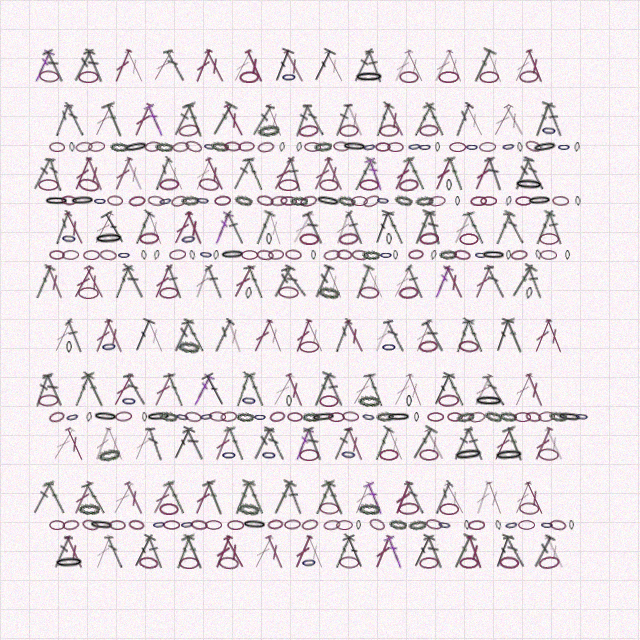chain: (453, 447, 484, 462), (494, 448, 524, 462), (514, 178, 544, 191), (94, 232, 124, 245), (54, 556, 84, 569), (97, 447, 121, 463), (77, 177, 100, 193), (123, 140, 149, 154), (532, 140, 558, 154), (315, 194, 341, 208), (354, 71, 384, 83), (474, 395, 504, 407), (257, 123, 280, 138), (317, 285, 340, 300), (178, 123, 200, 138), (198, 177, 220, 192), (538, 555, 560, 570), (177, 340, 200, 354), (237, 502, 260, 516), (362, 193, 381, 209), (311, 411, 336, 423), (557, 411, 582, 423), (89, 519, 114, 531), (298, 124, 319, 138), (398, 178, 419, 192), (338, 232, 359, 246), (138, 556, 159, 570), (218, 556, 239, 570), (184, 139, 203, 154), (524, 139, 543, 154), (342, 141, 367, 152), (70, 195, 95, 206), (527, 195, 552, 206), (220, 249, 245, 260), (93, 411, 118, 422), (146, 411, 171, 422), (242, 519, 267, 530), (278, 286, 299, 299), (398, 286, 419, 299), (418, 340, 439, 353), (458, 340, 479, 353), (38, 394, 59, 407), (438, 394, 459, 407), (538, 448, 559, 461), (398, 502, 419, 515), (368, 517, 386, 532), (299, 194, 318, 208), (456, 410, 475, 424), (81, 518, 100, 532), (358, 395, 380, 407), (78, 503, 100, 515), (358, 503, 380, 515), (39, 70, 59, 83), (519, 70, 539, 83), (339, 124, 359, 137), (379, 124, 399, 137), (419, 124, 439, 137), (159, 178, 179, 191), (139, 232, 159, 245), (419, 232, 439, 245), (359, 286, 379, 299), (319, 502, 339, 515), (519, 502, 539, 515), (339, 556, 359, 569), (499, 556, 519, 569), (78, 71, 99, 83), (438, 71, 459, 83), (38, 179, 59, 191), (278, 179, 299, 191), (170, 194, 188, 208), (78, 287, 99, 299), (48, 410, 66, 424), (44, 196, 69, 206), (481, 250, 506, 260), (386, 412, 411, 422), (234, 194, 253, 207), (394, 194, 413, 207), (484, 410, 503, 423), (239, 71, 259, 83), (399, 71, 419, 83), (479, 71, 499, 83), (319, 179, 339, 191), (359, 179, 379, 191), (299, 233, 319, 245), (459, 233, 479, 245), (539, 233, 559, 245), (159, 287, 179, 299), (299, 341, 319, 353), (319, 395, 339, 407), (299, 449, 319, 461), (379, 449, 399, 461), (419, 449, 439, 461), (159, 503, 179, 515), (439, 503, 459, 515), (179, 557, 199, 569), (419, 557, 439, 569), (459, 557, 479, 569), (180, 232, 197, 246), (256, 194, 274, 207), (301, 518, 319, 531), (425, 518, 443, 531), (337, 195, 356, 207), (415, 195, 434, 207), (408, 519, 427, 531), (269, 410, 286, 423), (340, 448, 357, 461), (75, 141, 93, 153), (172, 141, 190, 153), (257, 141, 275, 153), (128, 195, 146, 207), (147, 195, 165, 207), (270, 195, 288, 207), (428, 195, 446, 207), (99, 249, 117, 261), (256, 249, 274, 261), (323, 249, 341, 261), (351, 249, 369, 261), (453, 249, 471, 261), (510, 249, 528, 261), (184, 411, 202, 423), (468, 411, 486, 423), (62, 519, 80, 531), (190, 519, 208, 531), (323, 519, 341, 531), (549, 519, 567, 531), (159, 411, 178, 422), (541, 124, 557, 137), (61, 232, 77, 245), (101, 340, 117, 353), (241, 394, 257, 407), (301, 556, 317, 569), (525, 411, 542, 423), (128, 519, 145, 531), (144, 141, 162, 152), (211, 141, 229, 152), (314, 141, 332, 152), (181, 195, 199, 206), (439, 249, 457, 260), (220, 411, 238, 422), (376, 411, 394, 422), (499, 411, 517, 422), (549, 411, 567, 422), (389, 519, 407, 530), (281, 71, 297, 83), (381, 341, 397, 353), (121, 395, 137, 407), (221, 449, 237, 461), (261, 449, 277, 461), (88, 141, 105, 152), (224, 141, 241, 152), (238, 141, 255, 152), (333, 141, 350, 152), (214, 195, 231, 206), (169, 249, 186, 260), (285, 249, 302, 260), (336, 249, 353, 260), (115, 411, 132, 422), (209, 411, 226, 422), (342, 411, 359, 422), (538, 411, 555, 422), (267, 519, 284, 530), (284, 519, 301, 530), (110, 142, 128, 152), (155, 142, 173, 152), (362, 141, 377, 153), (158, 195, 173, 207), (290, 196, 308, 206), (362, 250, 380, 260), (65, 411, 80, 423), (175, 411, 190, 423), (236, 412, 254, 422), (302, 412, 320, 422), (361, 411, 376, 423), (437, 519, 452, 531), (504, 519, 519, 531), (61, 195, 77, 206), (107, 195, 123, 206), (268, 249, 284, 260), (408, 249, 424, 260), (304, 142, 321, 152), (387, 142, 404, 152), (449, 142, 466, 152), (479, 142, 496, 152), (280, 196, 297, 206), (351, 196, 368, 206), (470, 196, 487, 206), (480, 196, 497, 206), (515, 196, 532, 206), (552, 196, 569, 206), (62, 250, 79, 260), (83, 250, 100, 260), (241, 250, 258, 260), (540, 250, 557, 260), (328, 412, 345, 422), (427, 412, 444, 422), (514, 412, 531, 422), (109, 520, 126, 530), (163, 520, 180, 530), (205, 520, 222, 530), (227, 520, 244, 530), (336, 520, 353, 530), (468, 520, 485, 530), (518, 520, 535, 530), (407, 141, 422, 152), (501, 141, 516, 152), (199, 411, 214, 422), (49, 142, 65, 152), (375, 142, 391, 152), (49, 250, 65, 260), (287, 412, 303, 422), (447, 412, 463, 422), (49, 520, 65, 530), (203, 141, 217, 152), (196, 195, 210, 206), (376, 195, 390, 206), (199, 249, 213, 260), (575, 411, 589, 422), (152, 519, 166, 530), (180, 519, 194, 530), (418, 142, 432, 152), (465, 142, 479, 152), (557, 142, 571, 152), (93, 196, 107, 206), (117, 250, 131, 260), (379, 250, 393, 260), (474, 250, 488, 260), (253, 412, 267, 422), (540, 520, 554, 530), (525, 287, 533, 299), (245, 287, 252, 299), (535, 249, 542, 260), (446, 179, 452, 191), (266, 233, 272, 245), (386, 233, 392, 245), (66, 341, 72, 353), (286, 395, 292, 407), (406, 395, 412, 407), (505, 196, 512, 206), (153, 250, 160, 260), (189, 250, 196, 260), (430, 250, 437, 260), (495, 520, 502, 530), (69, 142, 75, 152), (279, 142, 285, 152), (296, 142, 302, 152), (517, 142, 523, 152), (574, 142, 580, 152), (575, 196, 581, 206), (141, 250, 147, 260), (213, 250, 219, 260), (86, 412, 92, 422), (464, 520, 470, 530), (435, 142, 440, 152), (455, 196, 460, 206), (311, 250, 316, 260), (393, 250, 398, 260), (506, 250, 511, 260), (565, 250, 570, 260), (142, 412, 147, 422), (414, 412, 419, 422), (356, 520, 361, 530), (569, 520, 574, 530)
double: (507, 263, 538, 300), (208, 101, 238, 138), (408, 425, 438, 462), (100, 209, 129, 246), (469, 47, 497, 85), (81, 371, 109, 409), (269, 479, 297, 517), (321, 479, 349, 517), (449, 533, 477, 571), (309, 47, 337, 84), (201, 371, 229, 408), (129, 533, 157, 570), (101, 101, 128, 139), (501, 317, 528, 355), (309, 371, 336, 409), (181, 533, 208, 571), (409, 102, 437, 138), (349, 156, 377, 192), (49, 426, 77, 462), (81, 480, 109, 516), (181, 317, 208, 354), (429, 371, 456, 408), (169, 425, 196, 462), (409, 533, 436, 570), (182, 101, 208, 139), (530, 101, 556, 139), (410, 209, 436, 247), (502, 425, 528, 463), (202, 479, 228, 517), (230, 479, 256, 517), (281, 48, 308, 84), (489, 102, 516, 138), (501, 102, 528, 138), (289, 210, 316, 246), (421, 318, 448, 354), (269, 372, 296, 408), (109, 480, 136, 516), (149, 480, 176, 516), (221, 534, 248, 570), (402, 155, 428, 192), (130, 209, 156, 246), (250, 209, 276, 246), (462, 209, 488, 246), (490, 209, 516, 246), (530, 209, 556, 246), (30, 263, 56, 300), (130, 317, 156, 354), (442, 371, 468, 408), (42, 479, 68, 516), (162, 479, 188, 516), (310, 479, 336, 516), (330, 533, 356, 570), (342, 533, 368, 570), (349, 372, 376, 407), (42, 48, 68, 84), (70, 48, 96, 84), (202, 48, 228, 84), (390, 48, 416, 84), (430, 48, 456, 84), (90, 102, 116, 138), (382, 102, 408, 138), (270, 156, 296, 192), (90, 210, 116, 246), (70, 264, 96, 300), (122, 264, 148, 300), (230, 264, 256, 300), (270, 264, 296, 300), (342, 318, 368, 354), (110, 372, 136, 408), (150, 372, 176, 408), (390, 372, 416, 408), (470, 372, 496, 408), (182, 426, 208, 462), (422, 426, 448, 462), (442, 480, 468, 516), (250, 534, 276, 570), (530, 534, 556, 570), (542, 534, 568, 570), (270, 47, 295, 84), (422, 101, 447, 138), (242, 155, 267, 192), (370, 209, 395, 246), (382, 209, 407, 246), (110, 263, 135, 300), (350, 263, 375, 300), (462, 317, 487, 354), (70, 371, 95, 408), (370, 425, 395, 462), (242, 479, 267, 516), (281, 265, 308, 299), (150, 48, 176, 83), (122, 48, 147, 84), (230, 48, 255, 84), (242, 48, 267, 84), (322, 48, 347, 84), (402, 48, 427, 84), (130, 102, 155, 138), (222, 102, 247, 138), (462, 102, 487, 138), (122, 156, 147, 192), (310, 156, 335, 192), (322, 156, 347, 192), (62, 210, 87, 246), (170, 210, 195, 246), (302, 210, 327, 246), (450, 210, 475, 246), (82, 264, 107, 300), (390, 264, 415, 300), (442, 264, 467, 300), (102, 318, 127, 354), (170, 318, 195, 354), (250, 318, 275, 354), (42, 372, 67, 408), (190, 372, 215, 408), (510, 372, 535, 408), (250, 426, 275, 462), (542, 426, 567, 462), (70, 480, 95, 516), (122, 480, 147, 516), (62, 534, 87, 570), (371, 101, 395, 138), (243, 263, 267, 300), (451, 317, 475, 354), (491, 317, 515, 354), (163, 371, 187, 408), (231, 371, 255, 408), (243, 371, 267, 408), (363, 371, 387, 408), (223, 425, 247, 462), (171, 533, 195, 570), (491, 533, 515, 570), (210, 318, 235, 353), (31, 48, 55, 84), (83, 48, 107, 84), (191, 48, 215, 84), (511, 48, 535, 84), (523, 48, 547, 84), (143, 102, 167, 138), (343, 102, 367, 138), (83, 156, 107, 192), (111, 156, 135, 192), (163, 156, 187, 192), (191, 156, 215, 192), (203, 156, 227, 192), (391, 156, 415, 192), (431, 156, 455, 192), (471, 156, 495, 192), (511, 156, 535, 192), (43, 264, 67, 300), (311, 264, 335, 300), (363, 264, 387, 300), (471, 264, 495, 300), (51, 318, 75, 354), (91, 318, 115, 354), (143, 318, 167, 354), (303, 318, 327, 354), (371, 318, 395, 354), (411, 318, 435, 354), (283, 372, 307, 408), (523, 372, 547, 408), (63, 426, 87, 462), (103, 426, 127, 462), (211, 426, 235, 462), (343, 426, 367, 462), (383, 426, 407, 462), (491, 426, 515, 462), (531, 426, 555, 462), (191, 480, 215, 516), (391, 480, 415, 516), (523, 480, 547, 516), (91, 534, 115, 570), (211, 534, 235, 570), (263, 534, 287, 570), (291, 534, 315, 570), (303, 534, 327, 570), (371, 534, 395, 570), (423, 534, 447, 570), (443, 155, 466, 192), (250, 103, 275, 137), (482, 373, 507, 407), (223, 210, 247, 245), (123, 372, 147, 407), (111, 48, 134, 84), (443, 48, 466, 84), (483, 48, 506, 84), (263, 102, 286, 138), (71, 156, 94, 192), (183, 210, 206, 246), (211, 210, 234, 246), (151, 264, 174, 300), (191, 264, 214, 300), (323, 264, 346, 300), (431, 264, 454, 300), (223, 318, 246, 354), (263, 318, 286, 354), (383, 318, 406, 354), (531, 318, 554, 354), (543, 318, 566, 354), (403, 372, 426, 408), (91, 426, 114, 462), (131, 426, 154, 462), (303, 426, 326, 462), (351, 480, 374, 516), (363, 480, 386, 516), (483, 480, 506, 516), (511, 480, 534, 516), (383, 534, 406, 570), (163, 48, 186, 83), (303, 102, 326, 137), (451, 102, 474, 137), (31, 156, 54, 191), (231, 156, 254, 191), (523, 156, 546, 191), (503, 210, 526, 245), (323, 372, 346, 407), (31, 480, 54, 515), (503, 534, 526, 569), (364, 156, 386, 192), (484, 156, 506, 192), (144, 210, 166, 246), (332, 210, 354, 246), (484, 264, 506, 300), (292, 318, 314, 354), (264, 426, 286, 462), (292, 426, 314, 462), (472, 480, 494, 516), (464, 534, 486, 570), (352, 48, 374, 83), (64, 102, 86, 137), (172, 102, 194, 137), (344, 210, 366, 245), (404, 264, 426, 299), (464, 426, 486, 461), (404, 480, 426, 515), (432, 480, 454, 515), (144, 534, 166, 569), (424, 210, 445, 246), (364, 48, 385, 83), (52, 102, 73, 137), (544, 102, 565, 137), (152, 156, 173, 191), (52, 210, 73, 245), (164, 264, 185, 299), (204, 264, 225, 299), (524, 264, 545, 299), (64, 318, 85, 353), (332, 318, 353, 353), (332, 426, 353, 461), (452, 426, 473, 461), (284, 480, 305, 515), (52, 534, 73, 569), (104, 534, 125, 569), (265, 210, 285, 246), (333, 102, 353, 137), (545, 210, 565, 245), (293, 102, 312, 138), (33, 372, 52, 408), (145, 426, 164, 462), (46, 156, 64, 192), (286, 156, 304, 192)
